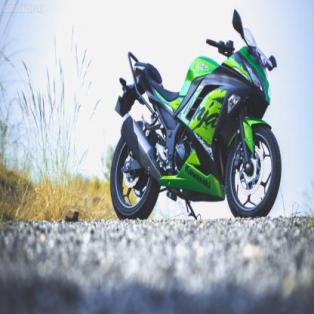Motocicleta: (110, 4, 284, 220)
